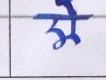e_matra: (55, 0, 81, 16)
